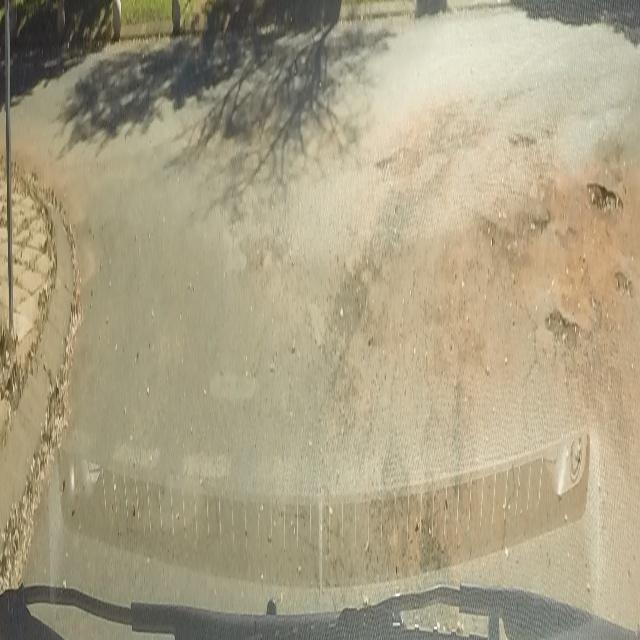pothole: (586, 177, 622, 213), (372, 151, 412, 178), (542, 302, 566, 338)
